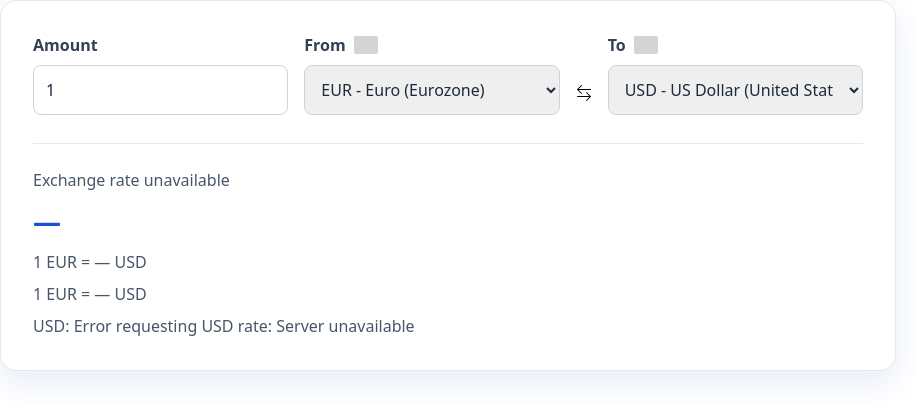
Scenario: currency conversion with the API › From is EUR › shows a server error before and after swapping
expect the message reads "USD: Error requesting USD rate: Server unavailable": met, box [33,315,415,337]
expect the 1st text "1 EUR = — USD" is shown: met, box [33,251,147,273]
Swap the currencies after the destination request fails.
Click the button named "swap currencies" at (584, 91), box [576,79,592,103]
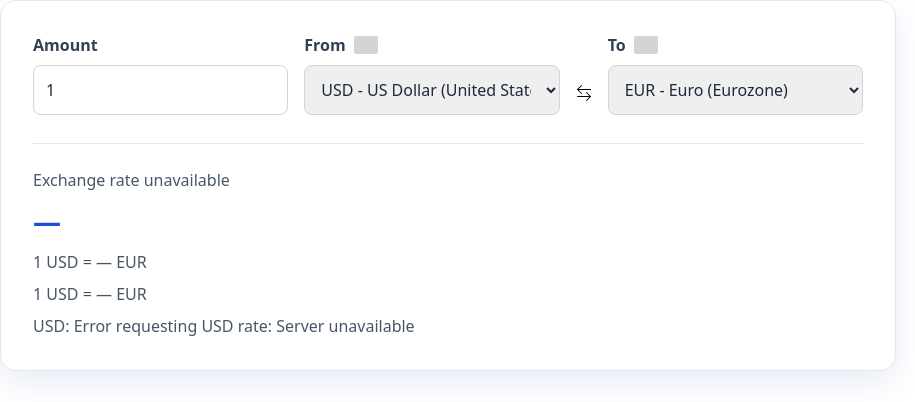
expect the message reads "USD: Error requesting USD rate: Server unavailable": met, box [33,315,415,337]
expect the 1st text "1 USD = — EUR" is shown: met, box [33,251,147,273]
